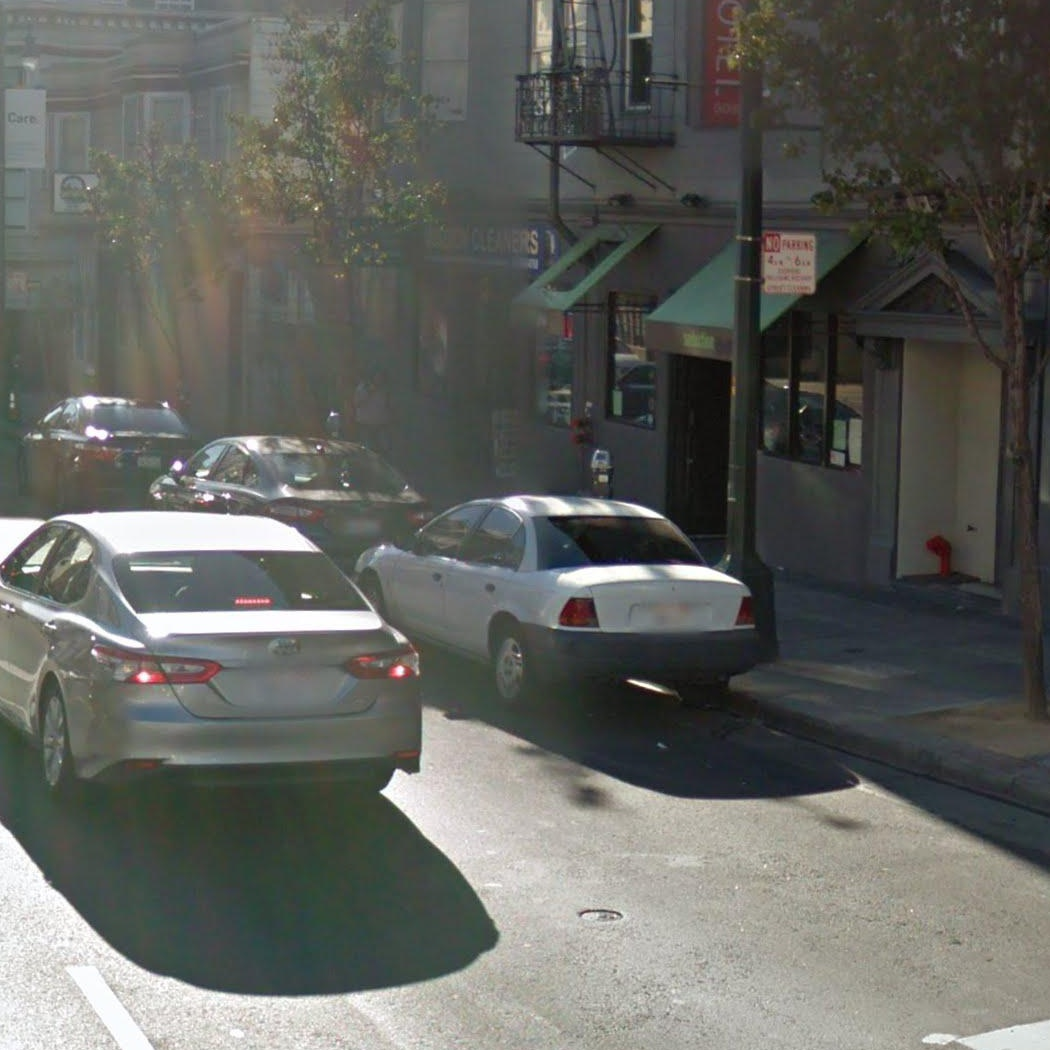No Parking: (760, 229, 819, 297)
